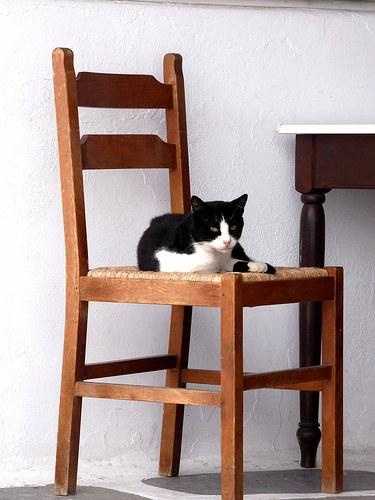obstacle: (52, 48, 342, 499)
